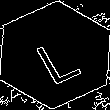L_NW: (27, 25, 83, 85)
